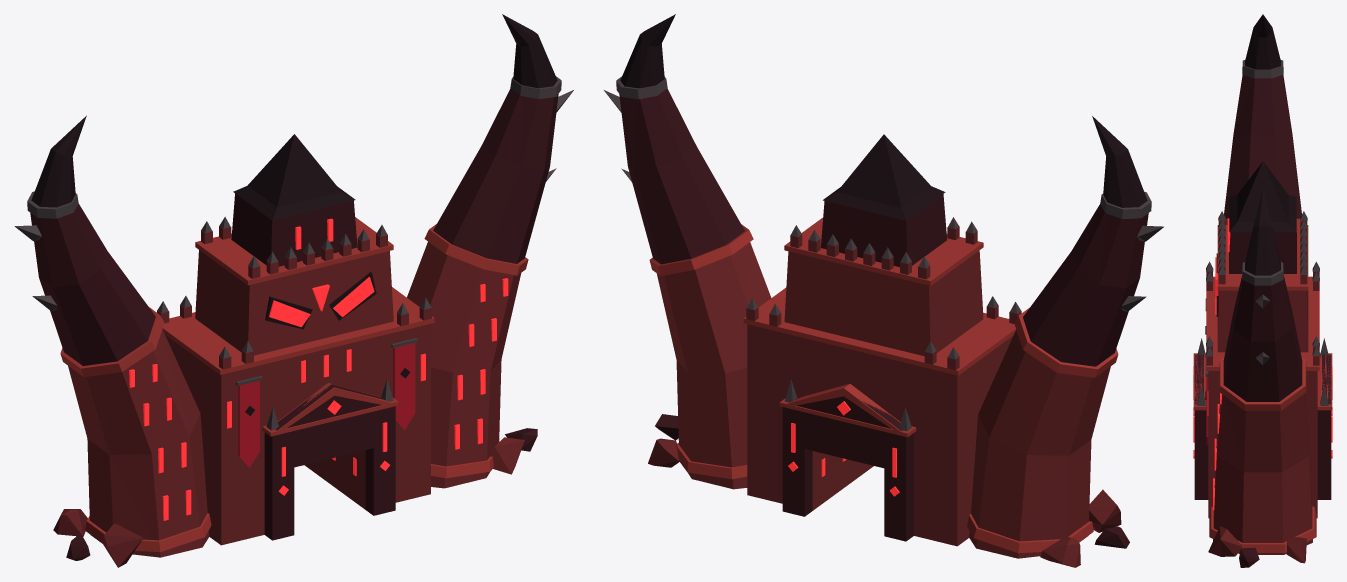
The model's file is Hell_3_HornedCastle.fbx.
3 renders of one model, left to right at view 1: azimuth 30°, elevation 25°; view 2: azimuth 150°, elevation 25°; view 3: azimuth 270°, elevation 25°, orthographic. The views are drawn at different scales.
Parts seen in each view (by area): view 1: Hell_3_HornedCastle__Hell_Tile, Hell_3_HornedCastle__Hell_GroundDark, Hell_3_HornedCastle__Hell_TileBorder, Hell_3_HornedCastle__Hell_Black, Hell_3_HornedCastle__Neon_Hell_Red, Hell_3_HornedCastle__Hell_Iron, Hell_3_HornedCastle__Hell_Banner, Hell_3_HornedCastle__Hell_Ground; view 2: Hell_3_HornedCastle__Hell_Tile, Hell_3_HornedCastle__Hell_GroundDark, Hell_3_HornedCastle__Hell_TileBorder, Hell_3_HornedCastle__Hell_Black, Hell_3_HornedCastle__Hell_Iron, Hell_3_HornedCastle__Hell_Ground; view 3: Hell_3_HornedCastle__Hell_GroundDark, Hell_3_HornedCastle__Hell_Tile, Hell_3_HornedCastle__Hell_Black, Hell_3_HornedCastle__Hell_TileBorder, Hell_3_HornedCastle__Hell_Iron, Hell_3_HornedCastle__Hell_Ground, Hell_3_HornedCastle__Neon_Hell_Red.
Part boxes in pixels (x1,y1,x2,y2): Hell_3_HornedCastle__Hell_Tile: [68, 226, 521, 557]; Hell_3_HornedCastle__Hell_GroundDark: [30, 88, 558, 560]; Hell_3_HornedCastle__Hell_TileBorder: [60, 217, 528, 552]; Hell_3_HornedCastle__Hell_Black: [31, 14, 557, 415]; Hell_3_HornedCastle__Neon_Hell_Red: [129, 218, 508, 520]; Hell_3_HornedCastle__Hell_Iron: [14, 76, 573, 430]; Hell_3_HornedCastle__Hell_Banner: [238, 343, 415, 467]; Hell_3_HornedCastle__Hell_Ground: [53, 437, 524, 567]; Hell_3_HornedCastle__Hell_Tile: [656, 226, 1110, 558]; Hell_3_HornedCastle__Hell_GroundDark: [619, 88, 1148, 548]; Hell_3_HornedCastle__Hell_TileBorder: [649, 217, 1118, 553]; Hell_3_HornedCastle__Hell_Black: [620, 14, 1147, 220]; Hell_3_HornedCastle__Hell_Iron: [604, 76, 1163, 431]; Hell_3_HornedCastle__Hell_Ground: [648, 438, 1121, 567]; Hell_3_HornedCastle__Hell_GroundDark: [1194, 75, 1331, 567]; Hell_3_HornedCastle__Hell_Tile: [1206, 221, 1319, 554]; Hell_3_HornedCastle__Hell_Black: [1205, 14, 1296, 399]; Hell_3_HornedCastle__Hell_TileBorder: [1193, 218, 1332, 552]; Hell_3_HornedCastle__Hell_Iron: [1197, 60, 1328, 405]; Hell_3_HornedCastle__Hell_Ground: [1208, 526, 1306, 563]; Hell_3_HornedCastle__Neon_Hell_Red: [1193, 218, 1332, 510].
Size of the model in its own units: 246 by 181 by 61.4.
